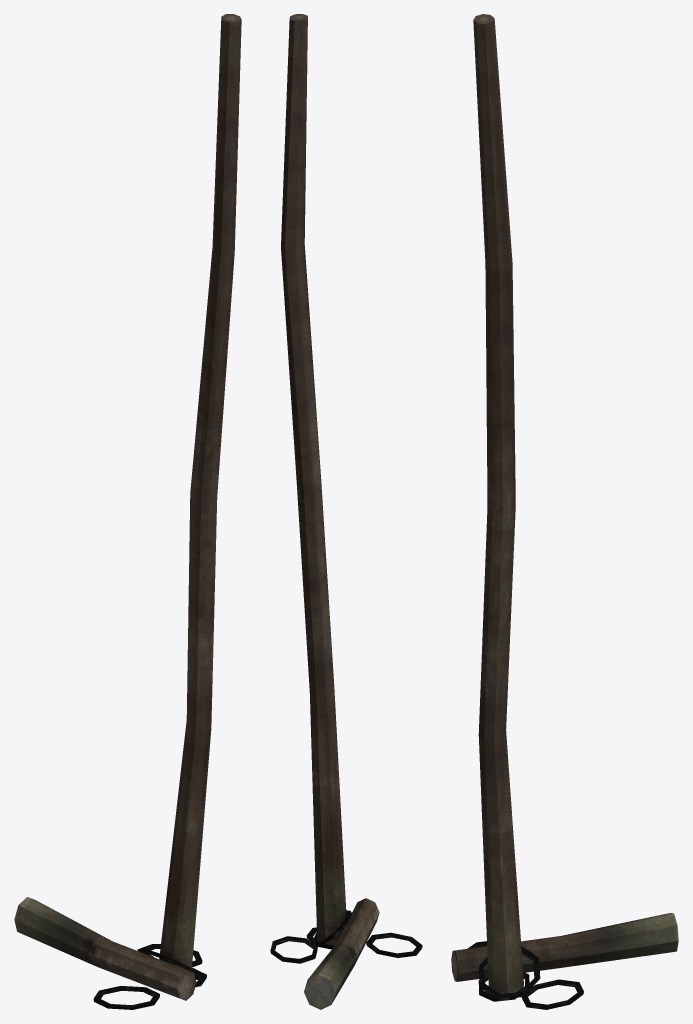
Rendered from Lamp_broken_01.glb.
The picture shows the model from 3 angles, left to right: view 1: azimuth 30°, elevation 25°; view 2: azimuth 150°, elevation 25°; view 3: azimuth 270°, elevation 25°; orthographic projection. The views are drawn at different scales.
Parts seen in each view (by area): view 1: Lamp_broken_01; view 2: Lamp_broken_01; view 3: Lamp_broken_01.
Part boxes in pixels (<box>): Lamp_broken_01: <box>14,14,241,1009</box>; Lamp_broken_01: <box>270,14,422,1009</box>; Lamp_broken_01: <box>451,14,678,1009</box>.
Size of the model in its own units: 2.24 by 14.59 by 3.02.
1 material, 1 textured.
